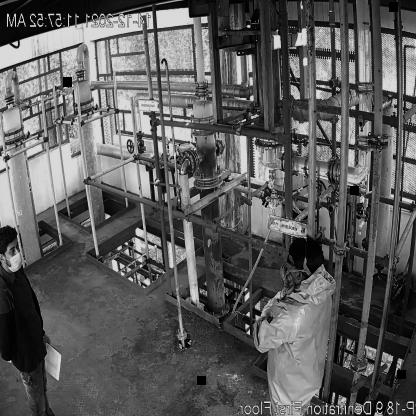no_goggles: (6, 242, 20, 260)
